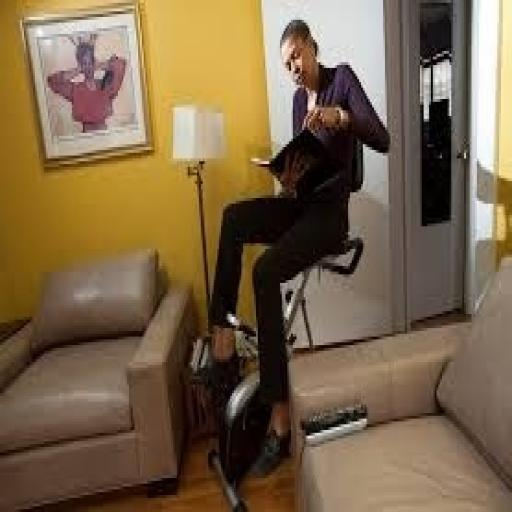sitting: (202, 14, 390, 475)
